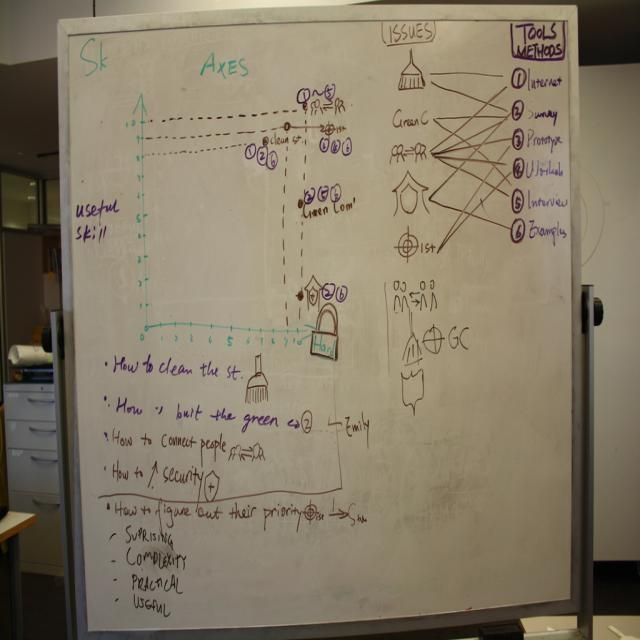Whiteboard: (56, 4, 583, 639)
